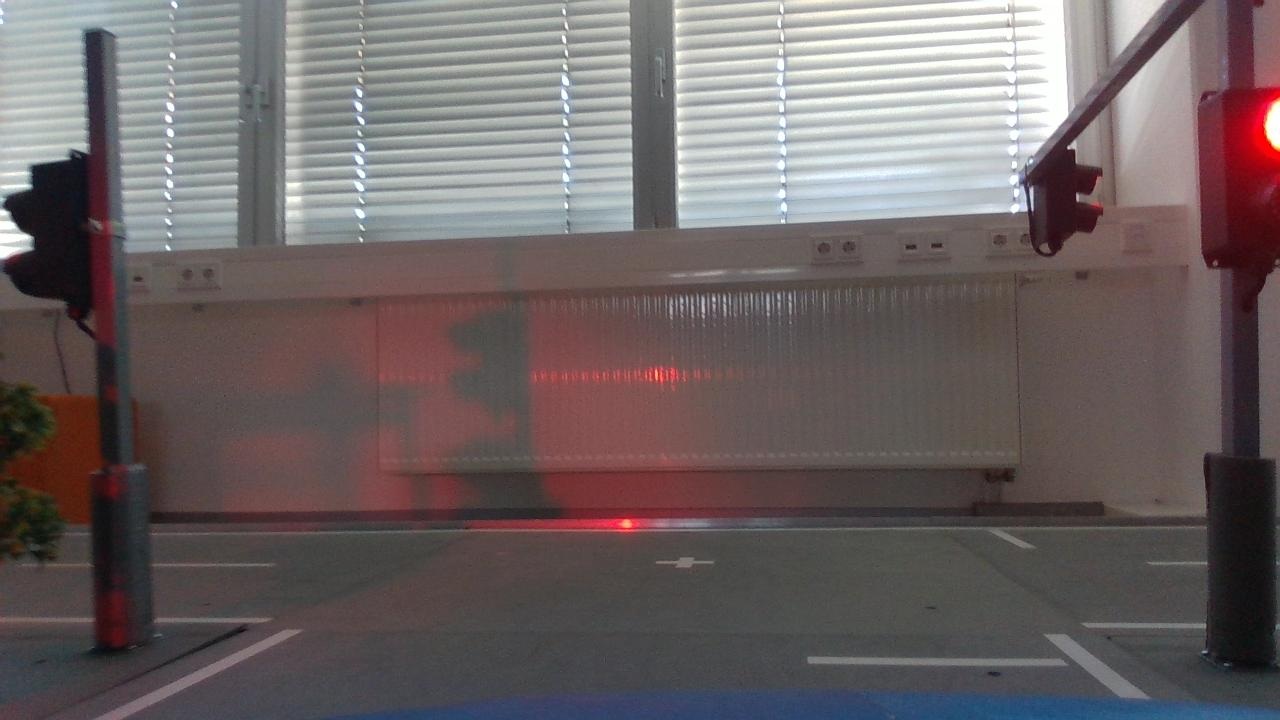traffic_light_red: (1193, 74, 1280, 290)
